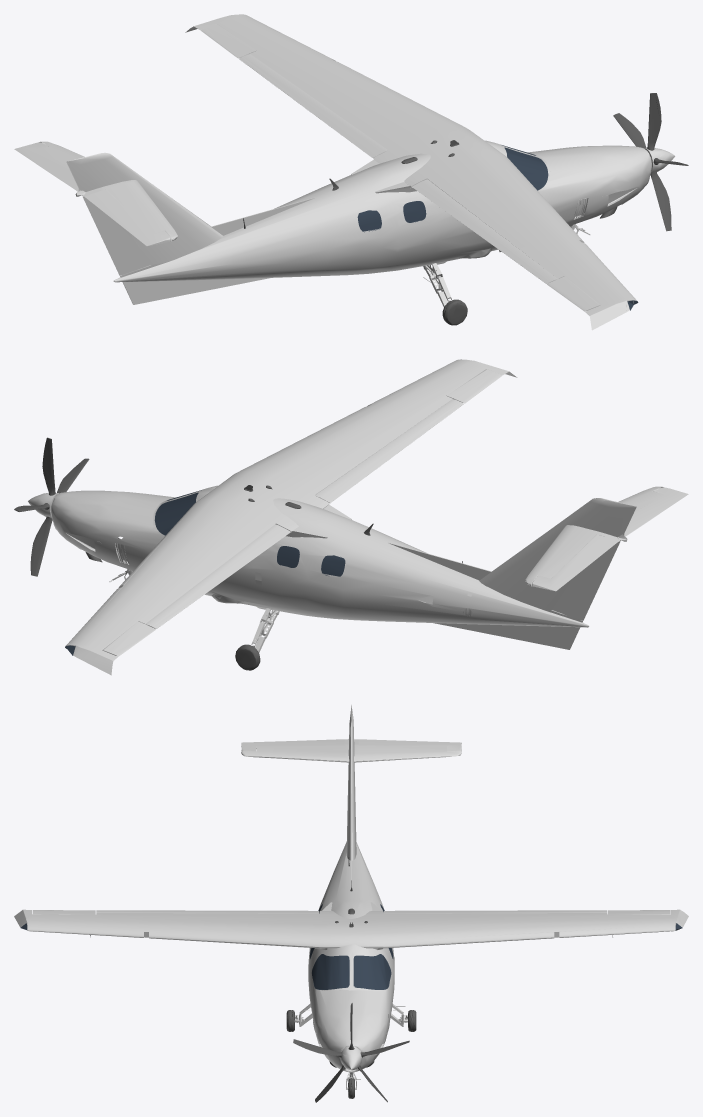
3 views of the same model, one above another, from view 1: azimuth 30°, elevation 25°; view 2: azimuth 150°, elevation 25°; view 3: azimuth 270°, elevation 25° (orthographic). The views are drawn at different scales.
Parts seen in each view (by area): view 1: body, glass, spin, trim; view 2: body, glass, spin, trim; view 3: body, glass, spin, trim.
Part boxes in pixels (x1,y1,x2,y2): body: [14, 14, 675, 330]; glass: [357, 145, 638, 310]; spin: [613, 93, 688, 231]; trim: [243, 140, 617, 325]; body: [28, 359, 688, 675]; glass: [65, 490, 345, 655]; spin: [14, 437, 89, 576]; trim: [85, 485, 462, 670]; body: [14, 705, 688, 1089]; glass: [20, 904, 682, 989]; spin: [293, 1003, 409, 1102]; trim: [90, 857, 612, 1098].
Bounding box in the file's own units: 1.9 × 0.6797 × 2.2.
